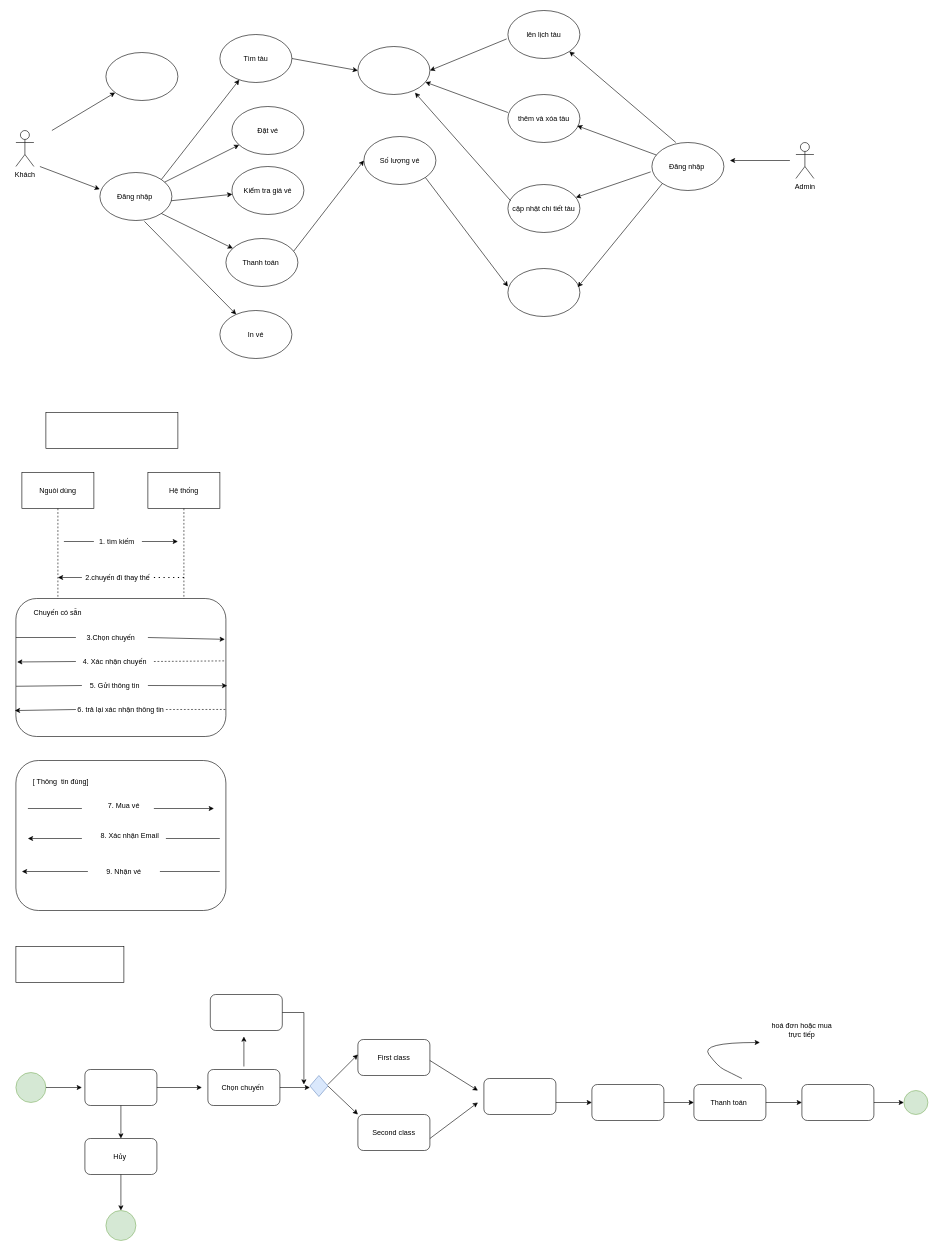
Image size: 938x1251. Some labels were removed from this diagram. Here are the shapes that lost their labels. From the top down, the centre of each, then its label:
the point at 141,76: Đăng ký
the point at 393,70: Train database
the point at 543,292: Kiểm tra số lượng vé
the point at 111,430: Sơ đồ trình tự
the point at 69,964: Sơ đồ hoạt động
the point at 246,1012: Đặt lại vé
the point at 120,1087: Tìm kiếm
the point at 519,1096: Thời gian
the point at 627,1102: Gửi thông tin
the point at 837,1102: Nhận vé
